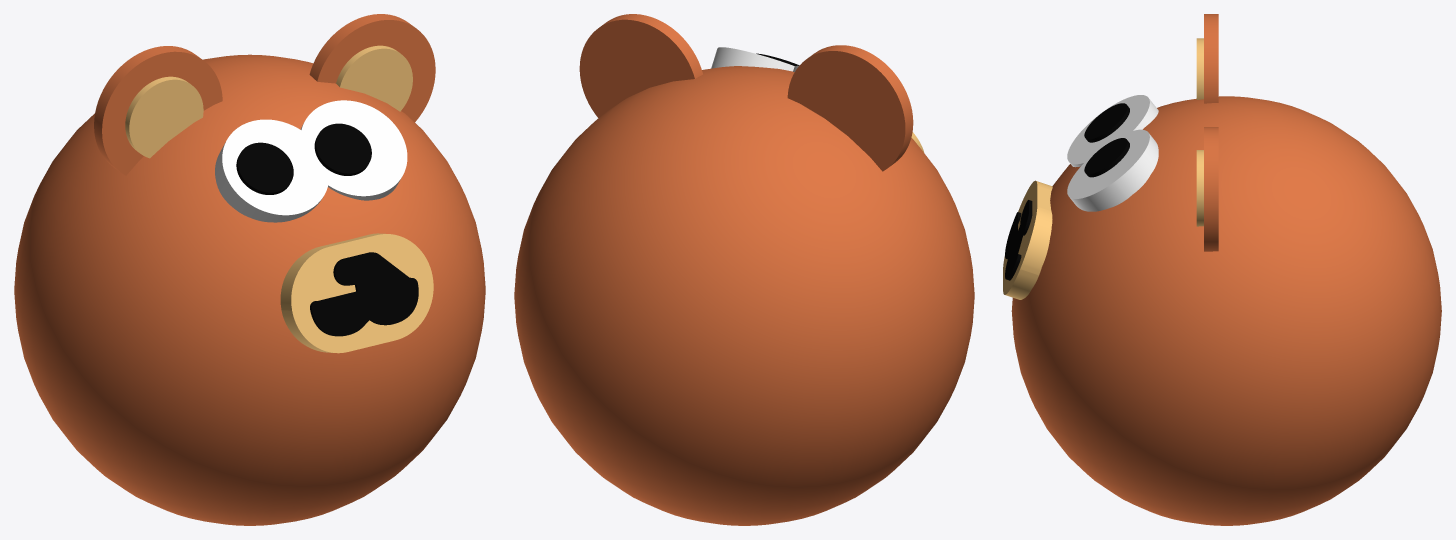
The picture shows the model from 3 angles, left to right: view 1: azimuth 30°, elevation 25°; view 2: azimuth 150°, elevation 25°; view 3: azimuth 270°, elevation 25°; orthographic projection. The views are drawn at different scales.
Visible parts, largest first — view 1: hinhtron, mieng_1, eye_around_1, tai, mui_1; view 2: hinhtron, tai, eye_around_1; view 3: hinhtron, eye_around_1, mieng_1, tai, mui_1.
Boxes of the visible parts, x1,y1,x2,y2 form: hinhtron: [14, 54, 485, 525]; mieng_1: [125, 45, 433, 353]; eye_around_1: [215, 100, 407, 222]; tai: [94, 14, 435, 175]; mui_1: [236, 123, 418, 336]; hinhtron: [514, 66, 974, 525]; tai: [579, 14, 913, 171]; eye_around_1: [711, 47, 798, 71]; hinhtron: [1011, 96, 1441, 525]; eye_around_1: [1067, 95, 1158, 211]; mieng_1: [1003, 38, 1203, 299]; tai: [1204, 14, 1218, 251]; mui_1: [1005, 103, 1129, 280].
Bounding box in the file's own units: 176 × 199 × 180.
